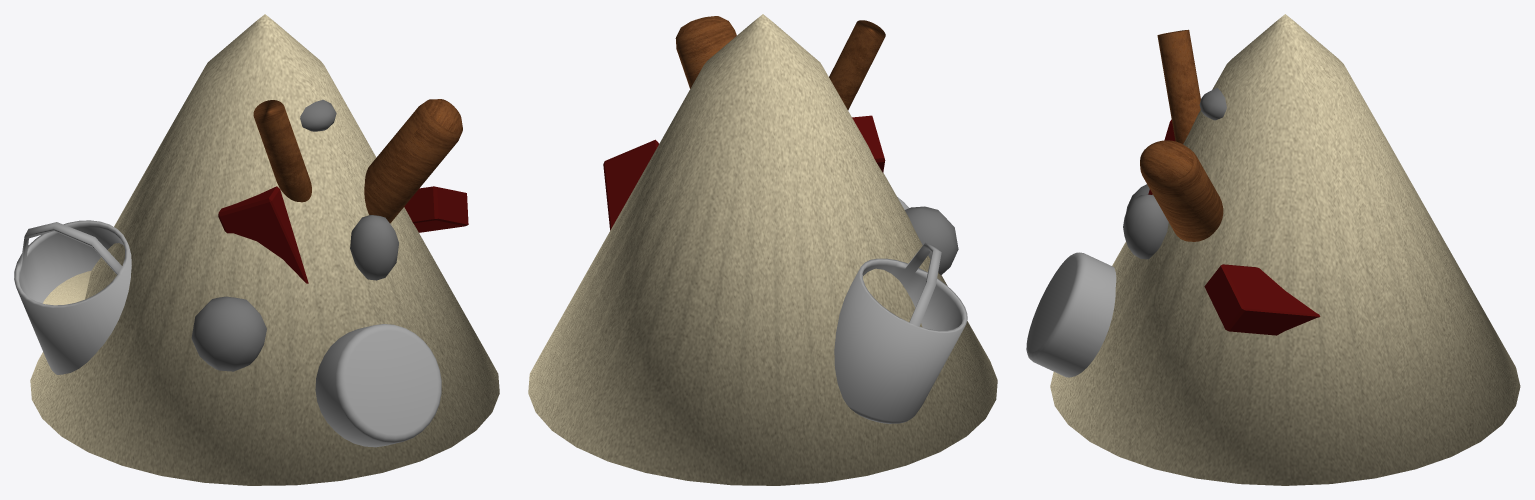
File: Trash Pile.glb
3 renders of one model, left to right at view 1: azimuth 30°, elevation 25°; view 2: azimuth 150°, elevation 25°; view 3: azimuth 270°, elevation 25°, orthographic.
Visible parts, largest first — view 1: Cone, Cylinder, Cylinder.003, Cylinder.001, Icosphere.001, Cube.001, Cylinder.002, Icosphere, Cube, Icosphere.002; view 2: Cone, Cylinder, Cylinder.002, Cylinder.001, Cube, Icosphere.001, Cube.001; view 3: Cone, Cylinder.003, Cylinder.001, Cube, Cylinder.002, Icosphere, Icosphere.002.
Boxes of the visible parts, x1,y1,x2,y2 form: Cone: (30, 14, 499, 485); Cylinder: (14, 220, 131, 374); Cylinder.003: (315, 324, 441, 447); Cylinder.001: (364, 99, 462, 223); Icosphere.001: (191, 296, 266, 371); Cube.001: (218, 186, 308, 283); Cylinder.002: (253, 100, 311, 202); Icosphere: (350, 215, 398, 280); Cube: (404, 186, 468, 232); Icosphere.002: (300, 99, 336, 131); Cone: (528, 14, 997, 485); Cylinder: (834, 242, 967, 423); Cylinder.002: (829, 20, 885, 110); Cylinder.001: (675, 16, 736, 88); Cube: (603, 139, 658, 230); Icosphere.001: (905, 206, 958, 275); Cube.001: (852, 115, 885, 172); Cone: (1050, 14, 1520, 485); Cylinder.003: (1026, 252, 1116, 377); Cylinder.001: (1140, 140, 1223, 241); Cube: (1204, 264, 1320, 335); Cylinder.002: (1157, 29, 1200, 144); Icosphere: (1123, 194, 1168, 259); Icosphere.002: (1199, 87, 1226, 120).
Bounding box in the file's own units: 2.08 × 1.81 × 2.1.
Materials: 5 (2 with a texture image).
